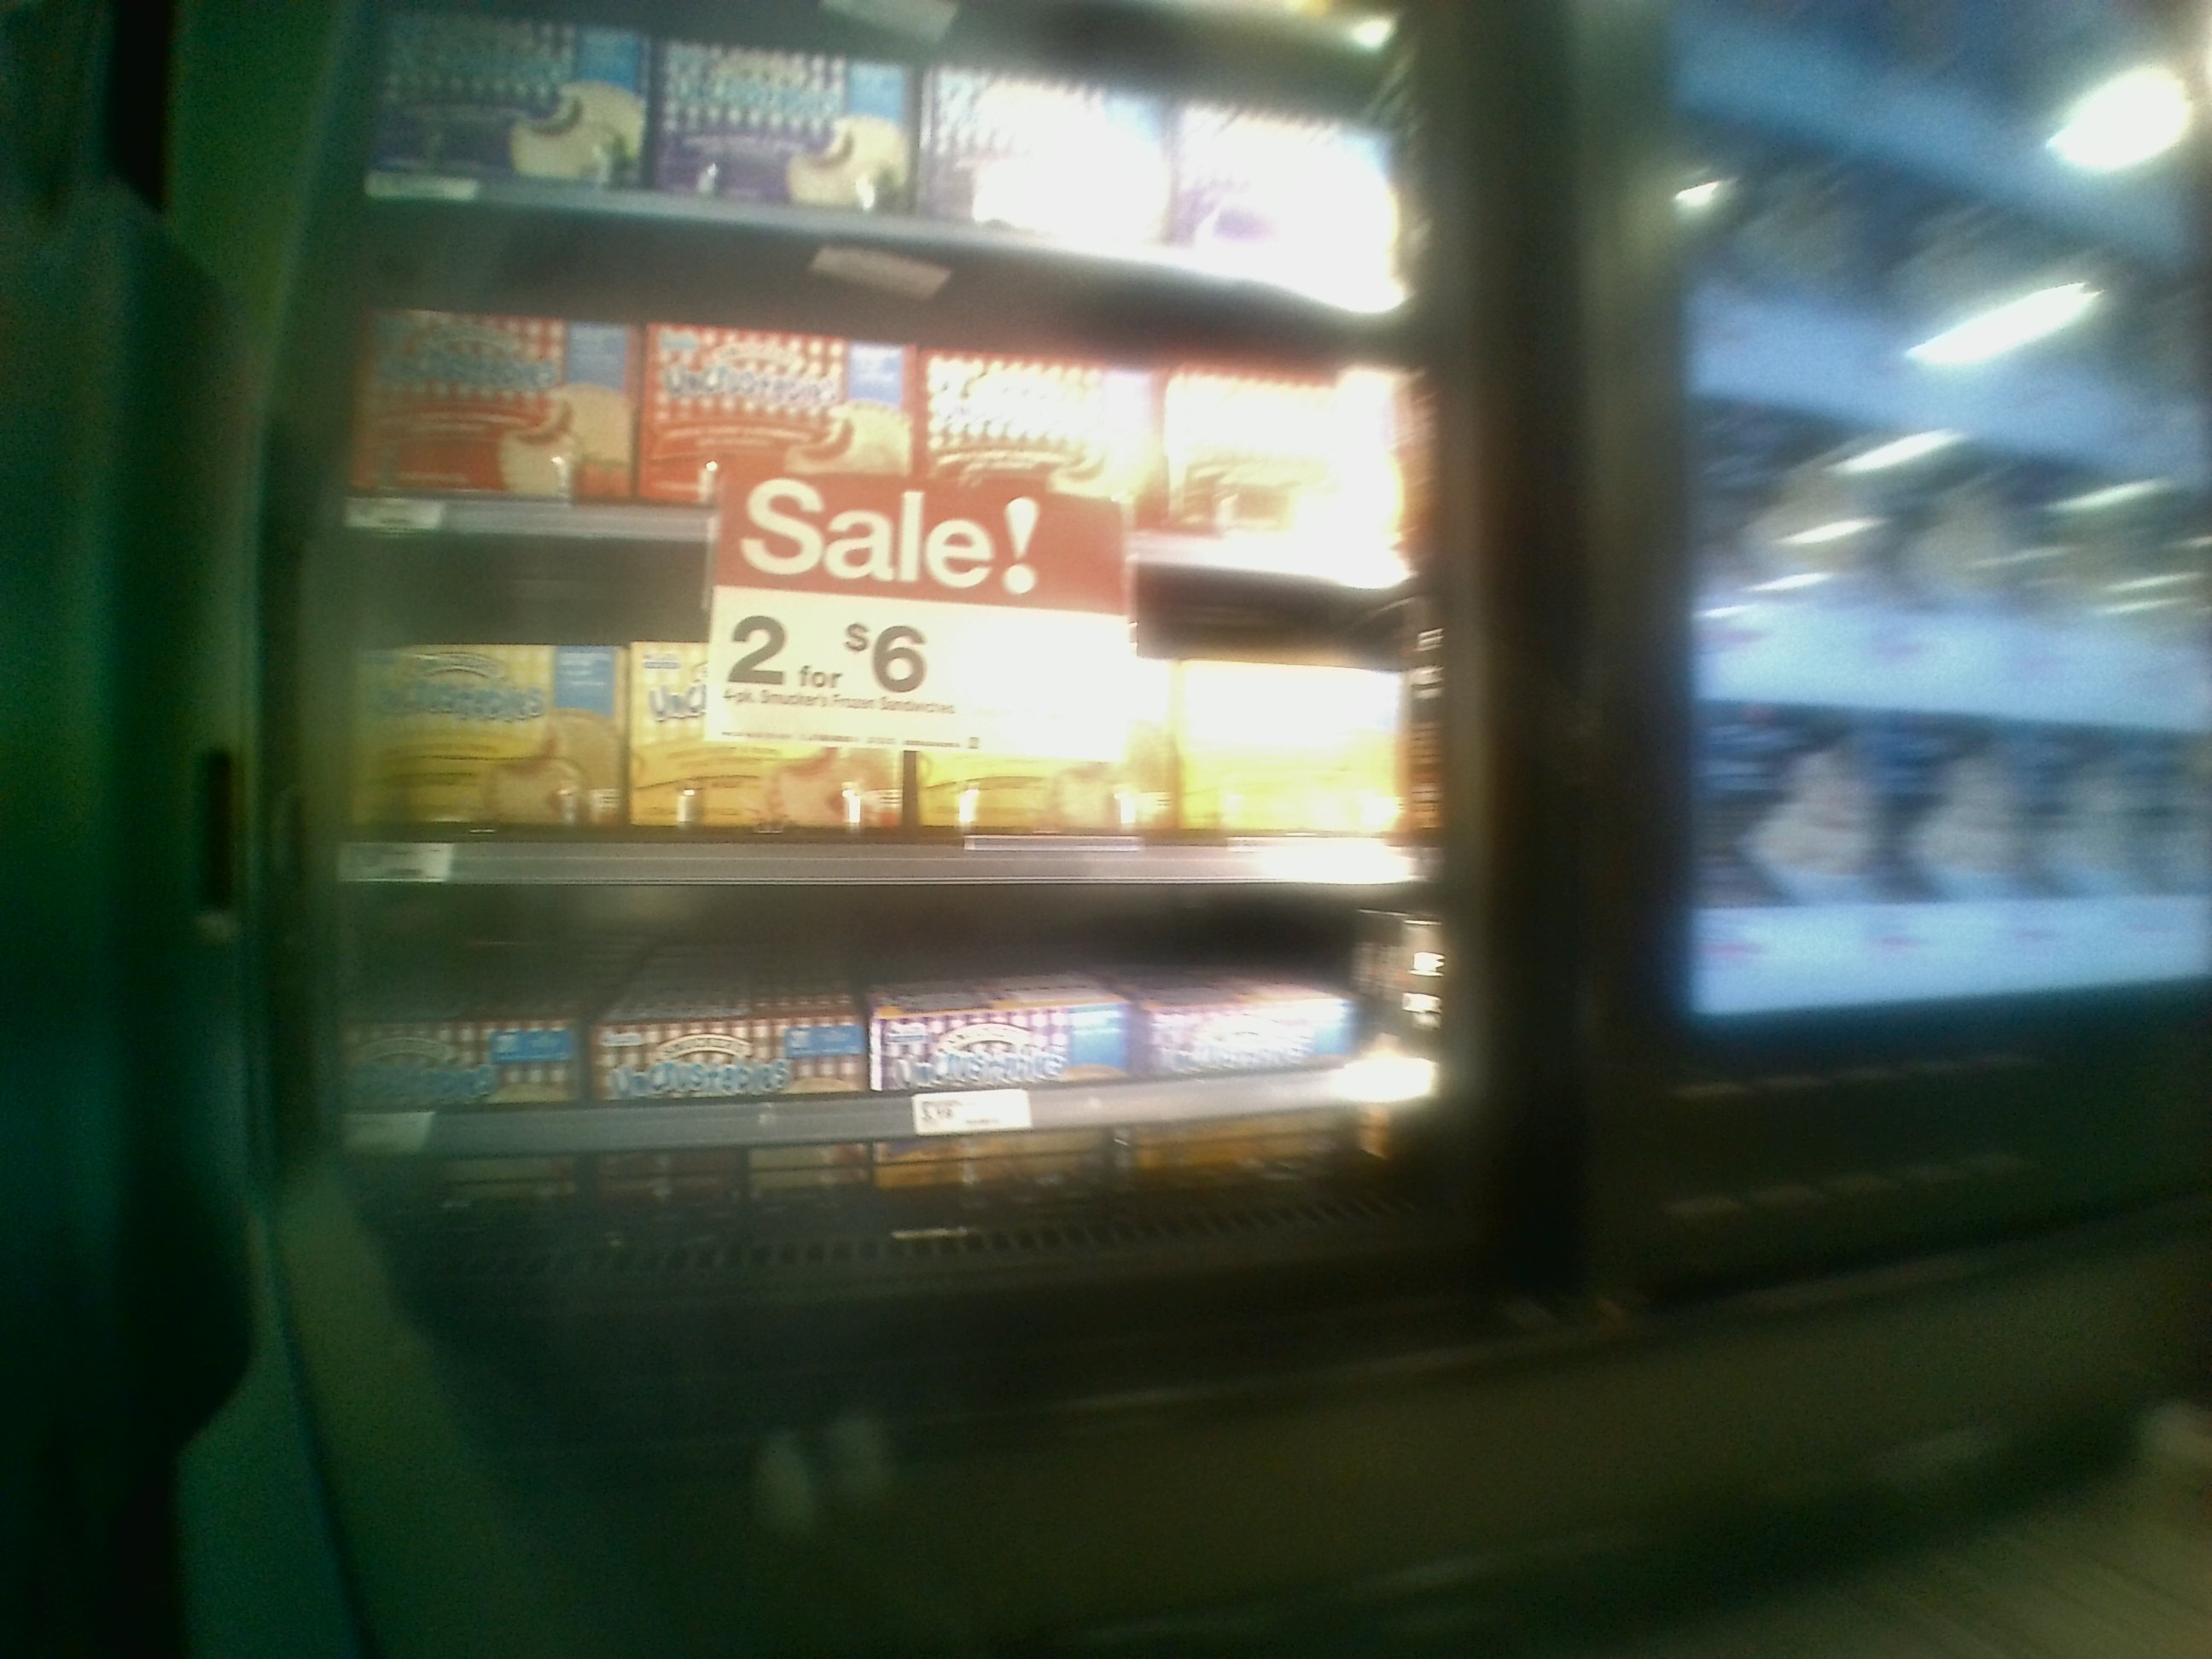shelf: (314, 878, 1439, 1251), (333, 204, 1432, 565), (324, 559, 1418, 887)
